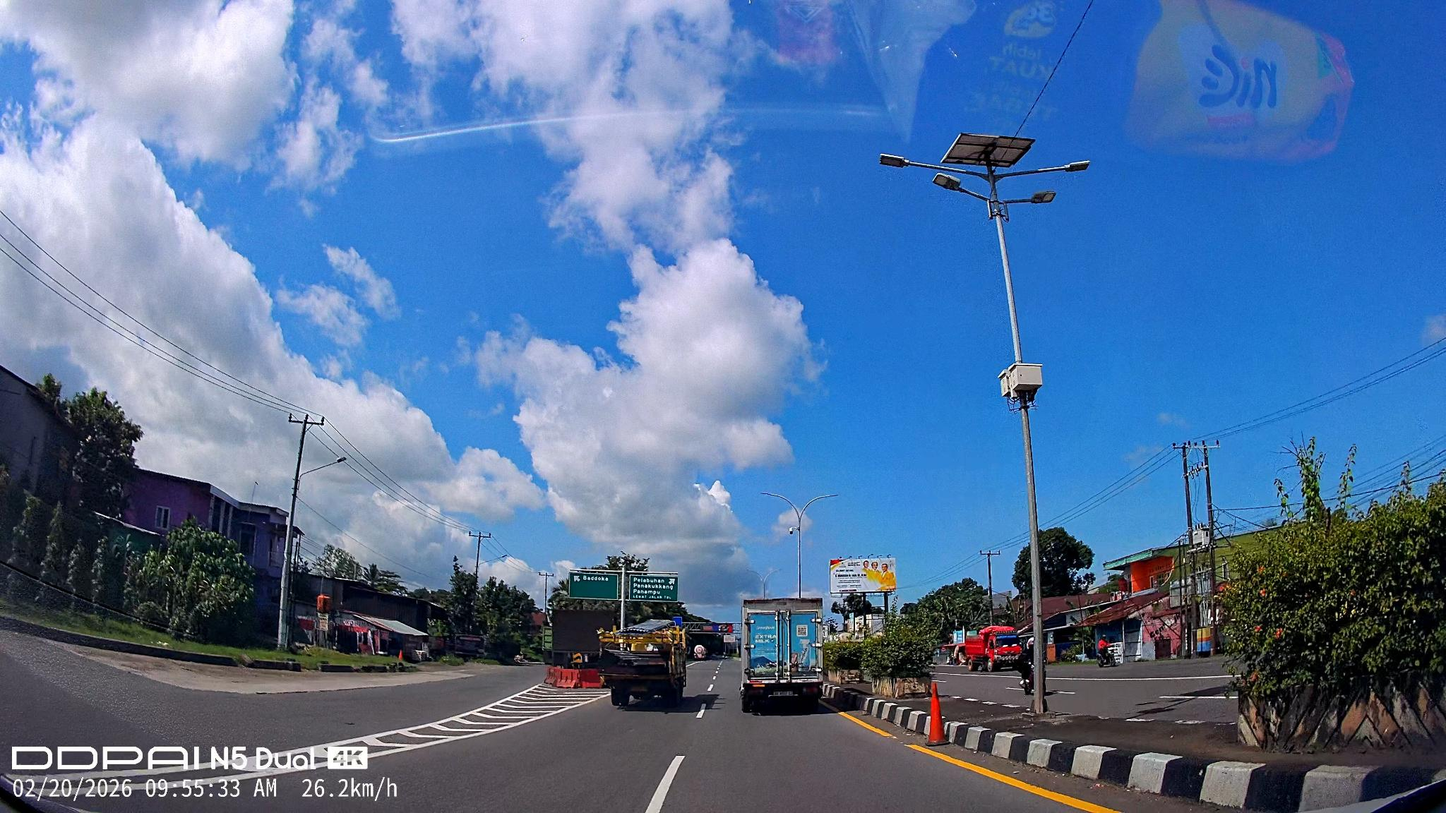rambu_teks: (568, 571, 619, 601), (628, 575, 679, 603)
